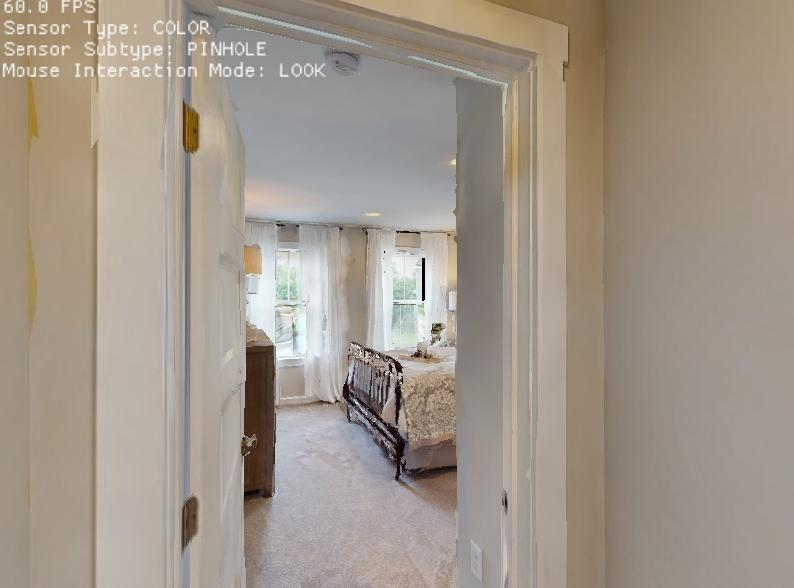bed: (329, 319, 459, 477)
door-frame: (90, 0, 574, 588)
